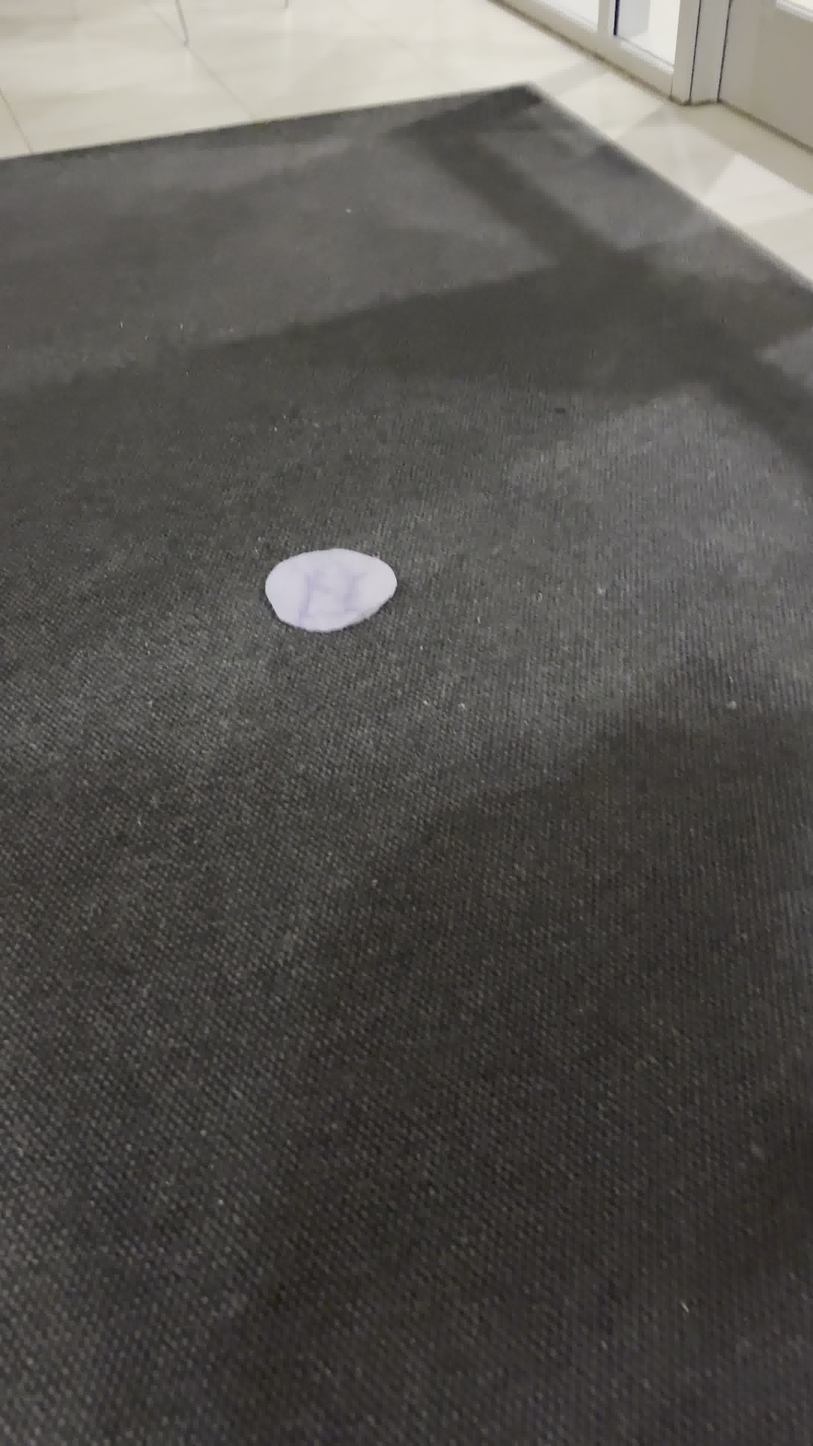Target: (265, 548, 397, 633)
